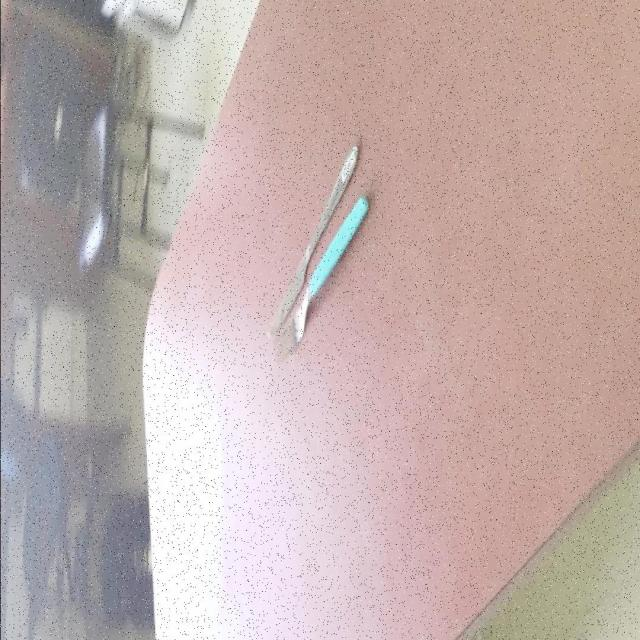Fork: (272, 192, 370, 363)
Knife: (266, 142, 361, 339)
